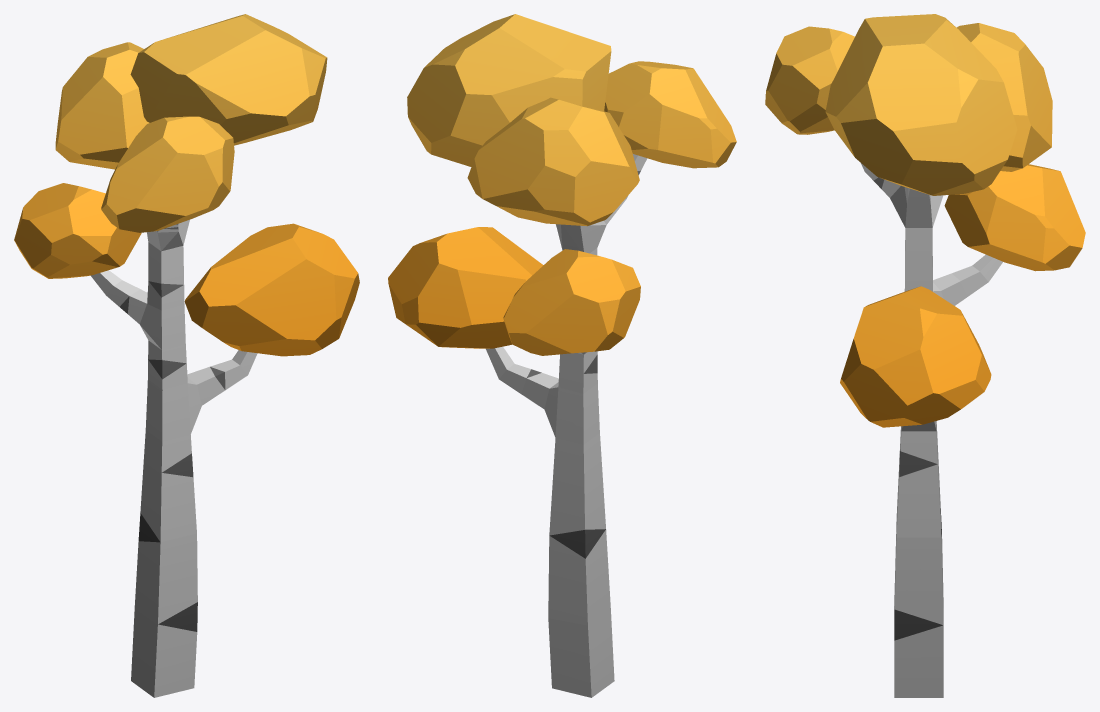
Rendered from autumn birch tree 3.fbx.
The picture shows the model from 3 angles, left to right: view 1: azimuth 30°, elevation 25°; view 2: azimuth 150°, elevation 25°; view 3: azimuth 270°, elevation 25°; orthographic projection. The views are drawn at different scales.
Visible parts, largest first — view 1: autumn birch tree 3; view 2: autumn birch tree 3; view 3: autumn birch tree 3.
Boxes of the visible parts, bbox=[...] form: autumn birch tree 3: bbox=[14, 14, 359, 697]; autumn birch tree 3: bbox=[388, 14, 736, 697]; autumn birch tree 3: bbox=[765, 14, 1085, 697].
Size of the model in its own units: 283 by 595 by 252.
